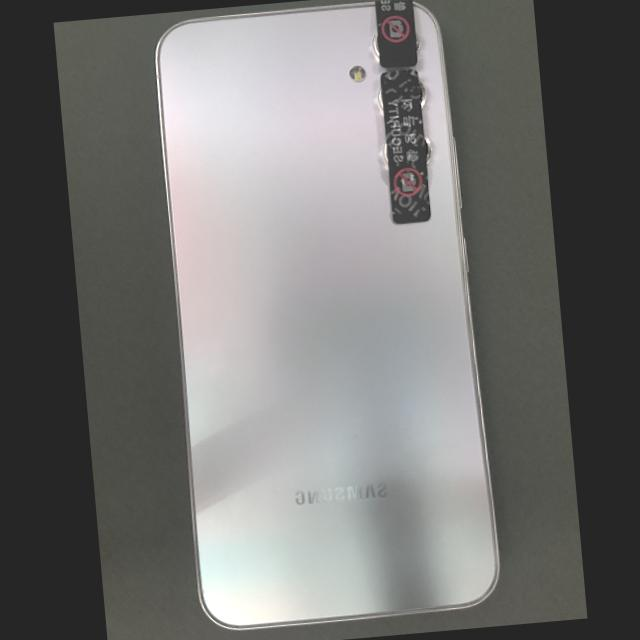lens: (417, 79, 425, 109), (423, 135, 431, 164), (414, 31, 419, 51)
phone: (153, 0, 501, 631)
sticker: (380, 68, 430, 224), (375, 0, 417, 68)
